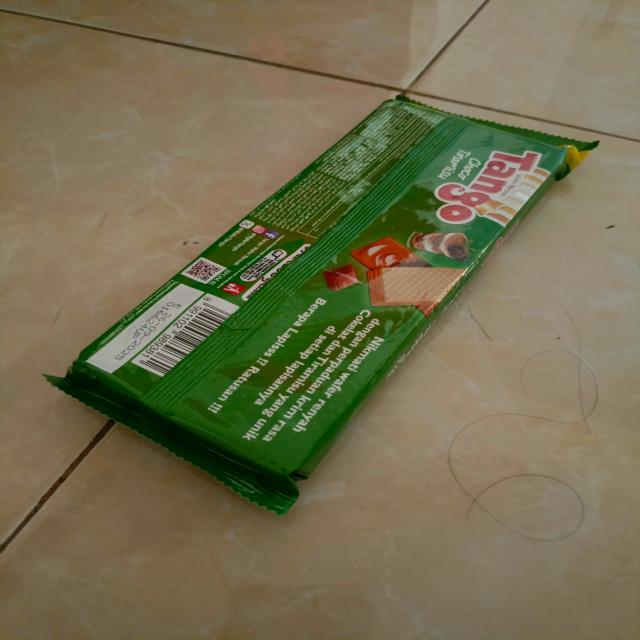tango-tiramisu: (42, 93, 602, 517)
